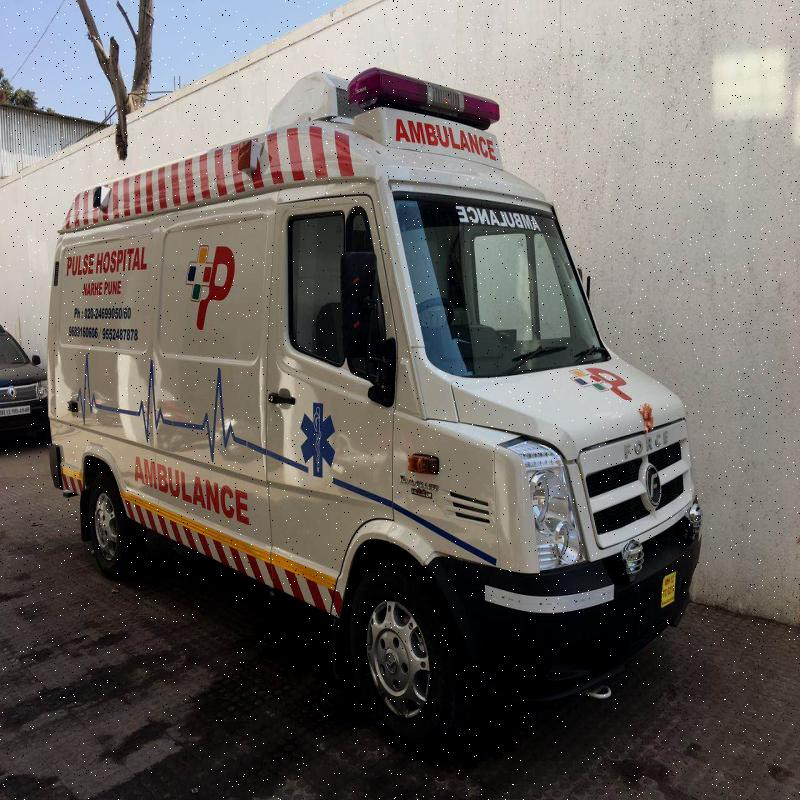ambulance: (38, 82, 729, 728)
